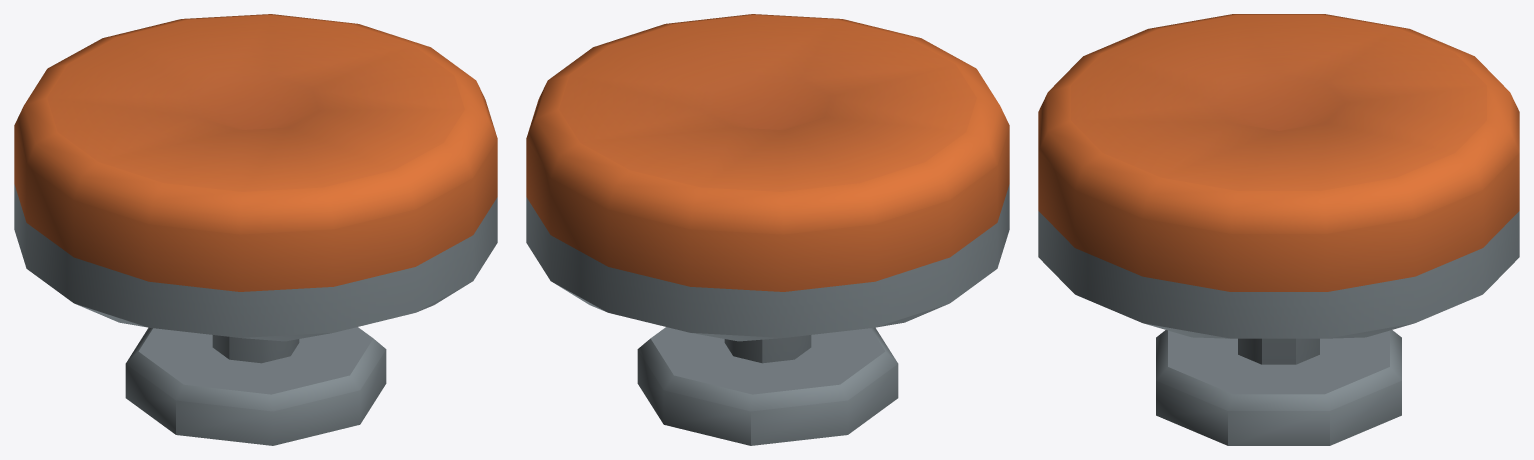
The model's file is chair_stool.obj.
3 views of the same model, side by side, from view 1: azimuth 30°, elevation 25°; view 2: azimuth 150°, elevation 25°; view 3: azimuth 270°, elevation 25° (orthographic).
Parts seen in each view (by area): view 1: chair_stool_Cylinder.374; view 2: chair_stool_Cylinder.374; view 3: chair_stool_Cylinder.374.
Boxes of the visible parts, bbox=[...] form: chair_stool_Cylinder.374: bbox=[14, 14, 497, 445]; chair_stool_Cylinder.374: bbox=[526, 14, 1009, 445]; chair_stool_Cylinder.374: bbox=[1038, 14, 1519, 445].
Size of the model in its own units: 0.75 by 0.5 by 0.75.
1 material, 1 textured.
